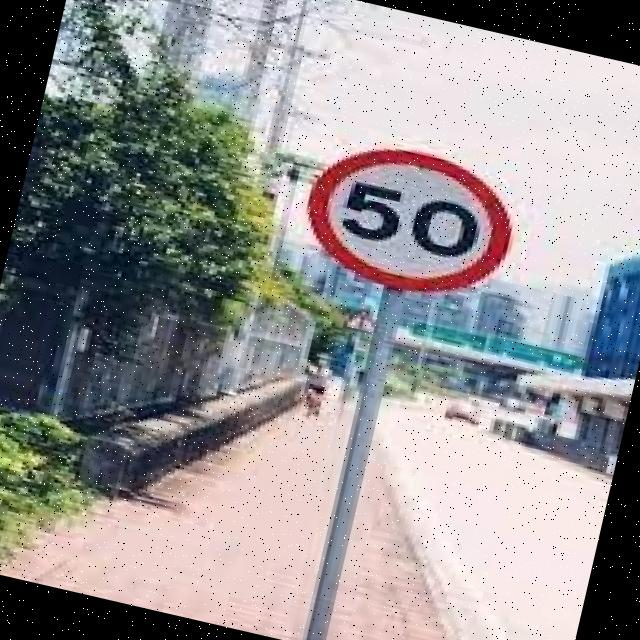speed_limit_50: (278, 122, 542, 320)
